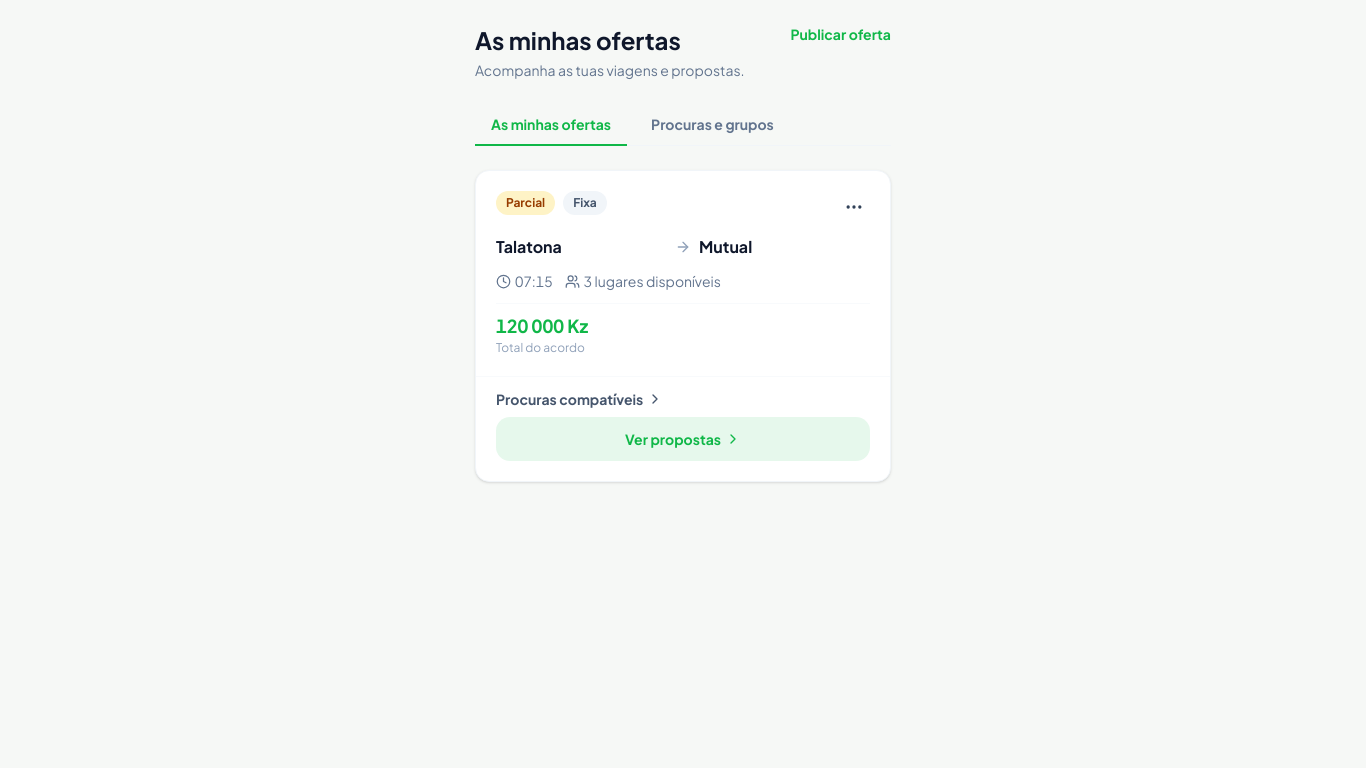
Scenario: DriverDashboard — marketplace › lista procuras compatíveis e permite propor acordo (sentido B)
The width and height of the screenshot is (1366, 768).
expect the text "Talatona" is shown: met, box [496,236,562,257]
Click the tab "Procuras e grupos" at (712, 125), box [635,104,790,146]
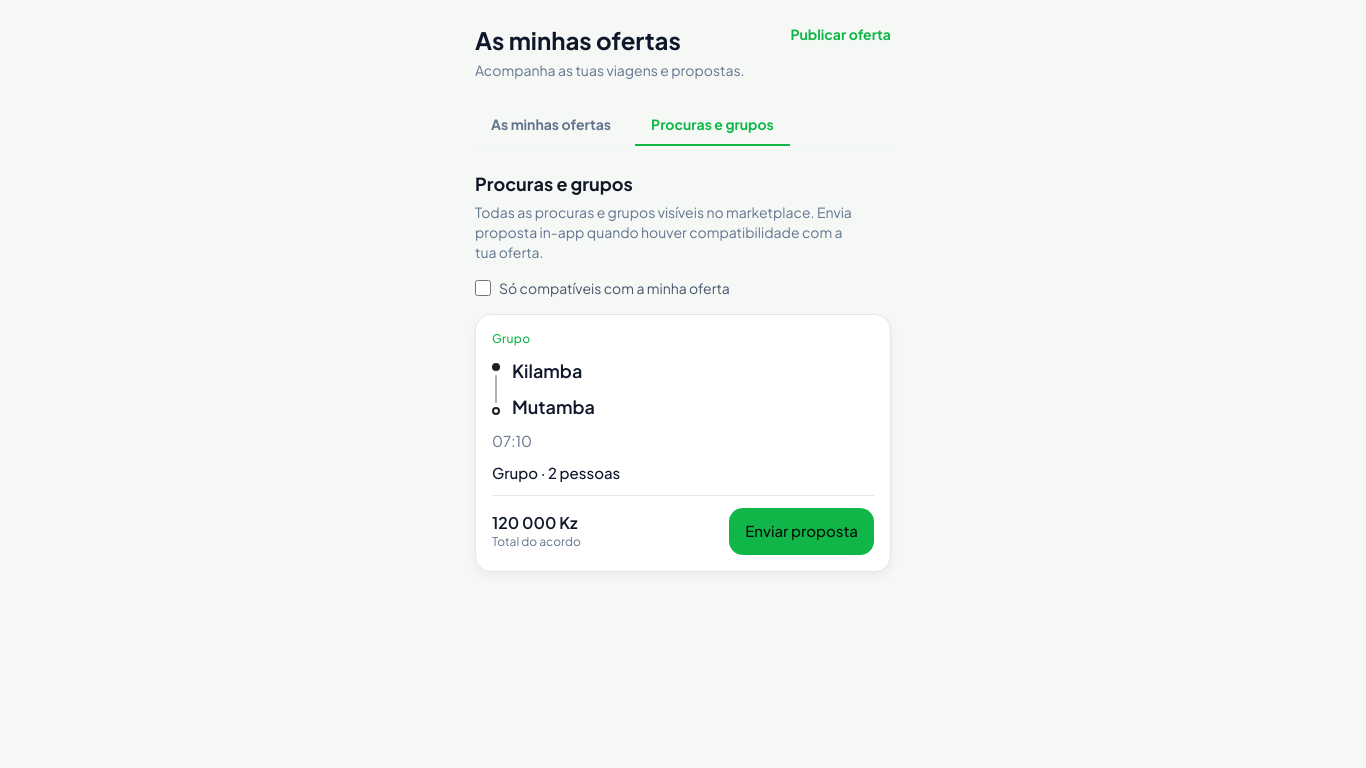
expect the text "Kilamba" is shown: met, box [512,359,582,382]
expect the text "Grupo · 2 pessoas" is shown: met, box [492,463,620,483]
Click the button "Enviar proposta" at (802, 531), box [729,508,874,554]
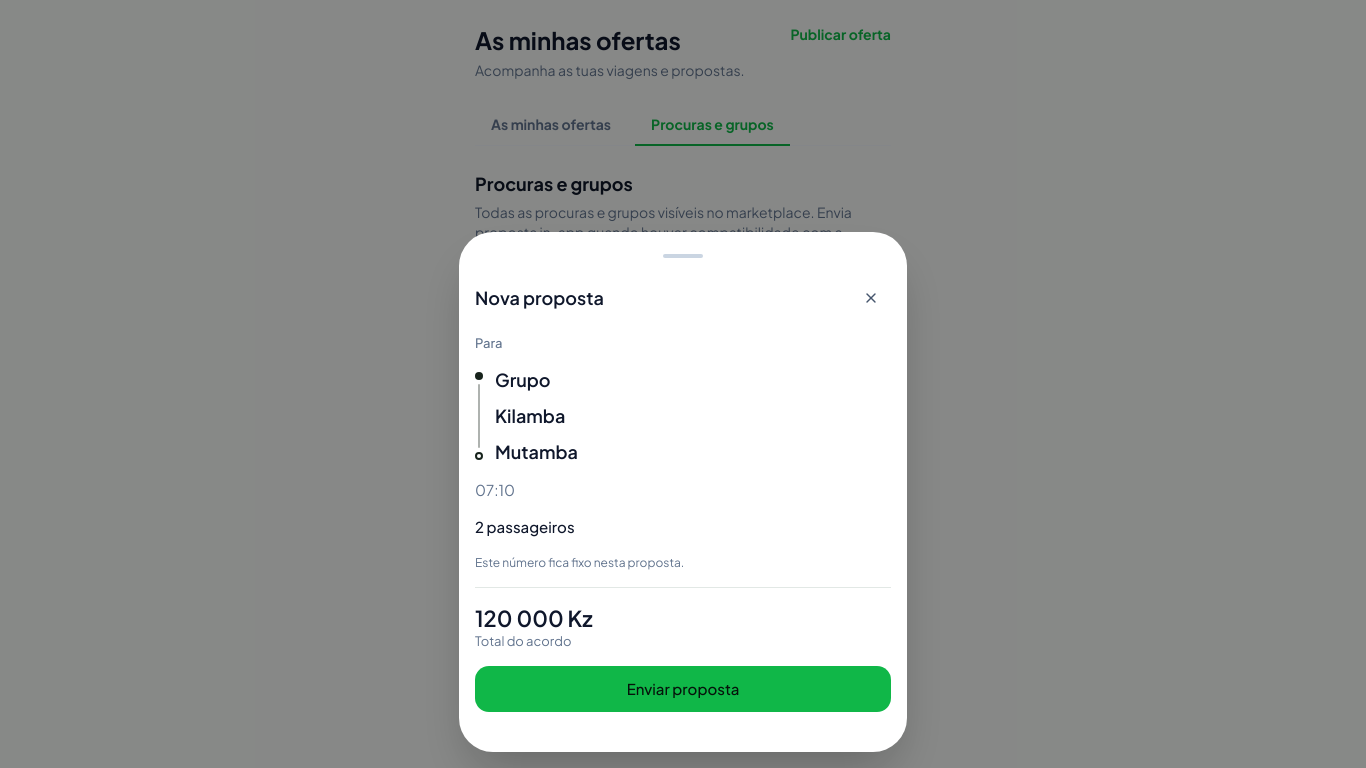
Click the button "Enviar proposta" at (683, 689), box [475,666,891,712]
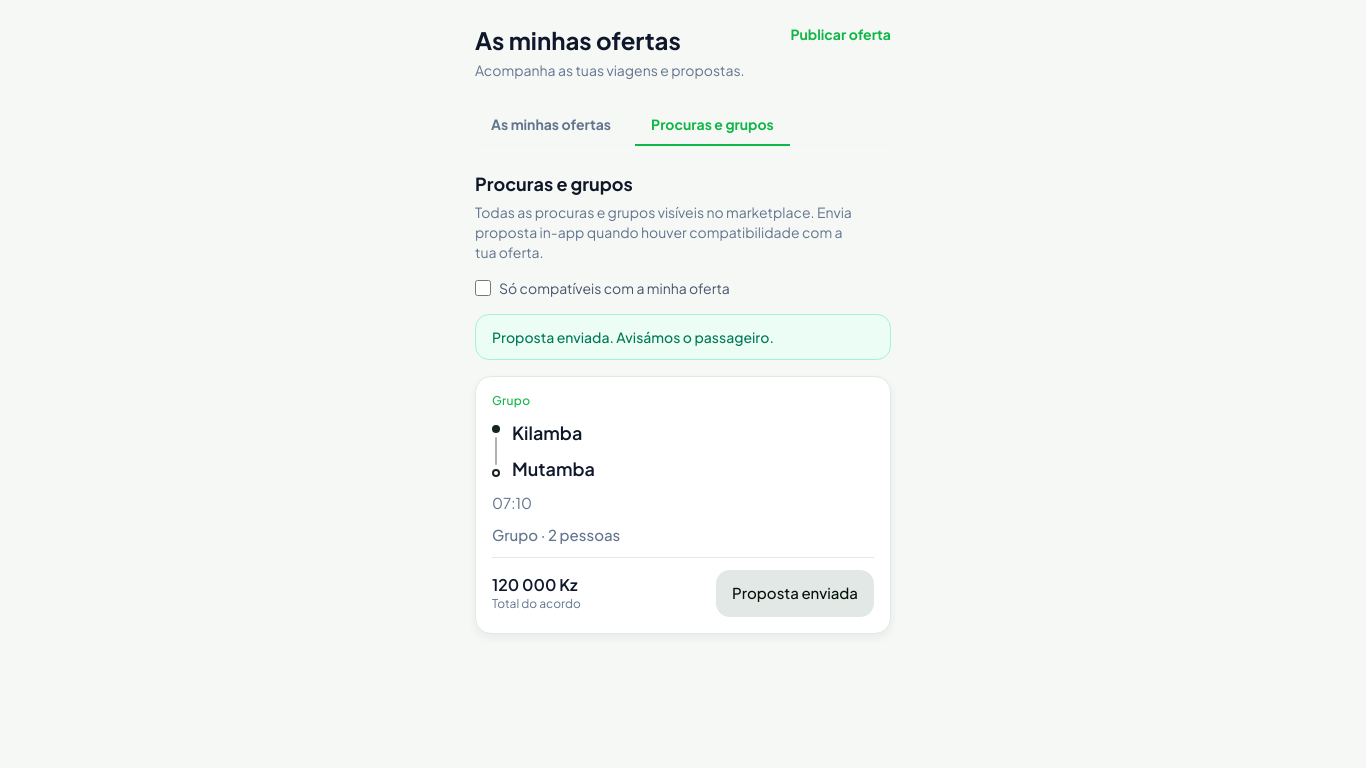
expect the text "Proposta enviada. Avisámos o passageiro." is shown: met, box [475,314,891,360]
